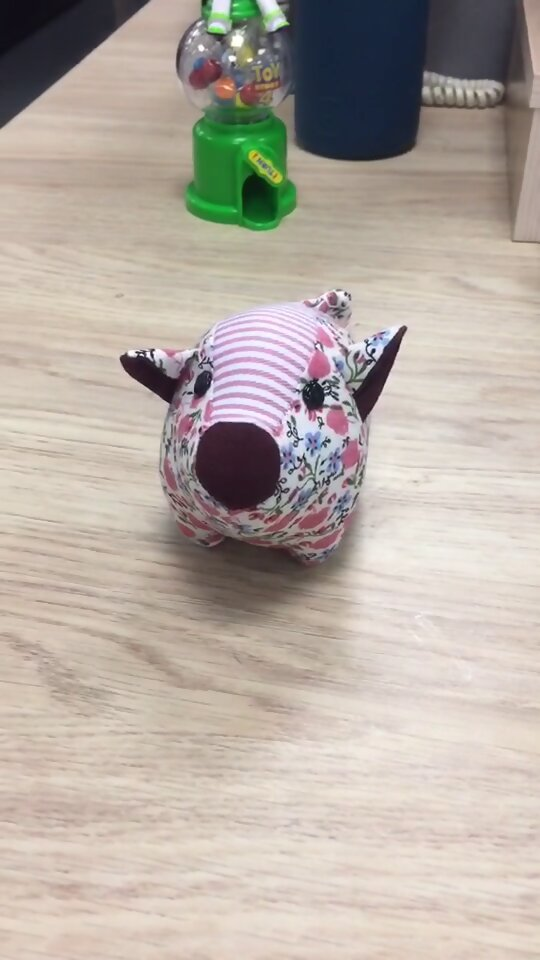pig: (118, 285, 410, 572)
